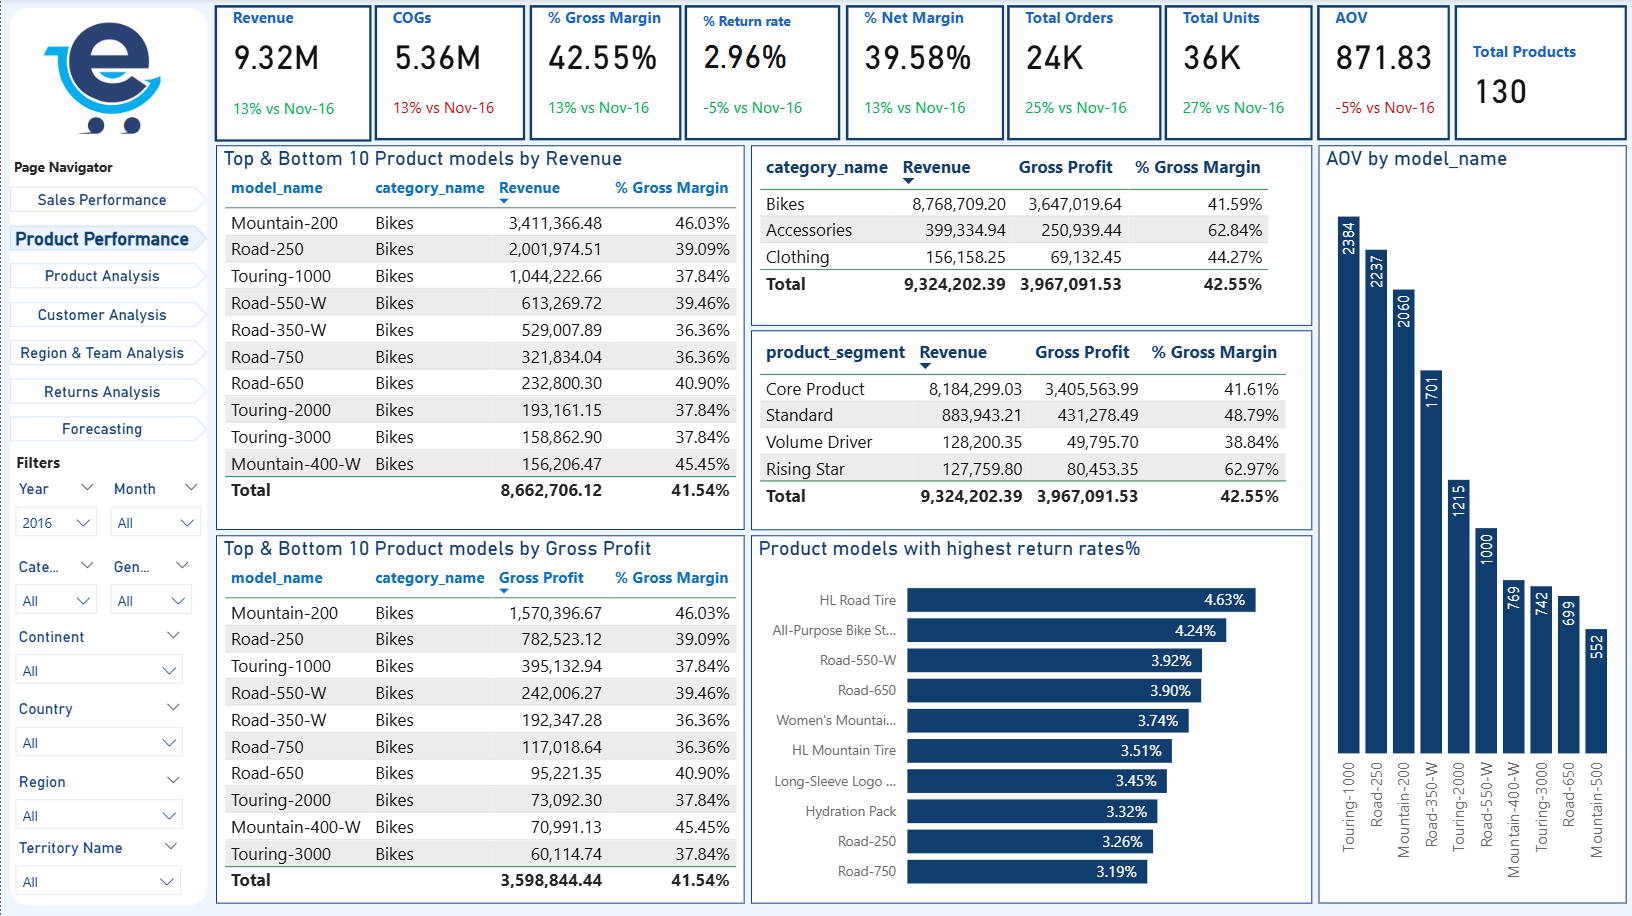

What the dashboard file says about the page in this screenshot:
{"tool":"powerbi","page":{"name":"Product Performance","canvas":[1280,720],"ordinal":1},"visuals":[{"type":"cardVisual","fields":{"Data":["All_measures.Revenue"]},"box":[162.3,0,133.9,117],"z":0},{"type":"cardVisual","fields":{"Data":["All_measures.% Gross Margin"]},"box":[409.6,0,129.8,116.7],"z":1000},{"type":"cardVisual","fields":{"Data":["All_measures.% Return rate"]},"box":[531.3,0,132.8,116.7],"z":2000},{"type":"cardVisual","fields":{"Data":["All_measures.% Net Margin"]},"box":[657.1,0,134.8,116.7],"z":3000},{"type":"cardVisual","fields":{"Data":["All_measures.Total Orders"]},"box":[783.9,0,131.8,116.7],"z":4000},{"type":"cardVisual","fields":{"Data":["All_measures.COGs"]},"box":[287.8,0,128.8,116.7],"z":5000},{"type":"cardVisual","fields":{"Data":["All_measures.AOV"]},"box":[1027.1,0,114.3,116.8],"z":6000},{"type":"cardVisual","fields":{"Data":["All_measures.Total Units"]},"box":[907.7,0,126.8,116.7],"z":7000},{"type":"cardVisual","fields":{"Data":["All_measures.Total Products"]},"box":[1134.2,0,145.8,116.9],"z":8000},{"type":"tableEx","fields":{"Values":["gold dim_products.category_name","All_measures.Revenue","All_measures.Gross Profit","All_measures.% Gross Margin"]},"box":[587.7,114.7,439.7,141.9],"z":9000},{"type":"tableEx","title":"Top & Bottom 10 Product models by Revenue","fields":{"Values":["gold dim_products.model_name","gold dim_products.category_name","All_measures.Revenue","All_measures.% Gross Margin"]},"box":[168.1,114.7,414.6,301.9],"z":10000},{"type":"tableEx","title":"Top & Bottom 10 Product models by Gross Profit","fields":{"Values":["gold dim_products.model_name","gold dim_products.category_name","All_measures.Gross Profit","All_measures.% Gross Margin"]},"box":[168.1,420.6,414.6,288.8],"z":11000},{"type":"tableEx","fields":{"Values":["gold dim_products.product_segment","All_measures.Revenue","All_measures.Gross Profit","All_measures.% Gross Margin"]},"box":[587.7,259.6,439.7,157],"z":12000},{"type":"barChart","title":"Product models with highest return rates% ","fields":{"Y":["All_measures.% Return rate"],"Category":["gold dim_products.model_name"]},"box":[587.7,420.6,439.7,288.8],"z":13000},{"type":"clusteredColumnChart","title":"AOV by model_name","fields":{"Category":["gold dim_products.model_name"],"Y":["All_measures.AOV"]},"box":[1032.5,114.7,241.5,594.7],"z":14000},{"type":"shape","box":[7.3,6.4,155,703.8],"z":15000},{"type":"image","box":[25.2,6,114.7,110.7],"z":16000},{"type":"textbox","box":[5,116.7,112.7,30.2],"z":17000},{"type":"textbox","box":[7,349.2,56.4,33.2],"z":18000},{"type":"slicer","fields":{"Values":["gold dim_date.calendar.Variation.Date Hierarchy.Year"]},"box":[1,372.3,84.5,60.4],"z":19000},{"type":"slicer","fields":{"Values":["gold dim_products.category_name"]},"box":[1,432.7,84.5,55.3],"z":20000},{"type":"slicer","fields":{"Values":["gold dim_territories.continent"]},"box":[1,488.1,151.9,56.4],"z":21000},{"type":"slicer","fields":{"Values":["gold dim_territories.country"]},"box":[1,544.4,151.9,57.4],"z":22000},{"type":"slicer","fields":{"Values":["gold dim_territories.region"]},"box":[1,601.8,151.9,61.4],"z":23000},{"type":"slicer","fields":{"Values":["gold dim_territories.territory_name"]},"box":[1,653.1,149.9,56.4],"z":24000},{"type":"pageNavigator","box":[7.3,146.8,155,202.3],"z":25000},{"type":"slicer","fields":{"Values":["gold dim_customers.gender"]},"box":[75.5,432.7,84.5,55.3],"z":26000},{"type":"slicer","fields":{"Values":["gold dim_date.calendar.Variation.Date Hierarchy.Month"]},"box":[75.5,372.3,91.6,60.4],"z":27000}]}

Visuals, with their boxes in screenshot pixels (x1, y1, x2, y2), scaled from the page's 1280x720 canvas onto the 1632x916 screenshot:
cardVisual - All_measures.Revenue: rect(207, 0, 378, 149)
cardVisual - All_measures.% Gross Margin: rect(522, 0, 688, 148)
cardVisual - All_measures.% Return rate: rect(677, 0, 847, 148)
cardVisual - All_measures.% Net Margin: rect(838, 0, 1010, 148)
cardVisual - All_measures.Total Orders: rect(999, 0, 1168, 148)
cardVisual - All_measures.COGs: rect(367, 0, 531, 148)
cardVisual - All_measures.AOV: rect(1310, 0, 1455, 149)
cardVisual - All_measures.Total Units: rect(1157, 0, 1319, 148)
cardVisual - All_measures.Total Products: rect(1446, 0, 1631, 149)
tableEx - gold dim_products.category_name x All_measures.Revenue: rect(749, 146, 1310, 326)
"Top & Bottom 10 Product models by Revenue" tableEx: rect(214, 146, 743, 530)
"Top & Bottom 10 Product models by Gross Profit" tableEx: rect(214, 535, 743, 903)
tableEx - gold dim_products.product_segment x All_measures.Revenue: rect(749, 330, 1310, 530)
"Product models with highest return rates% " barChart: rect(749, 535, 1310, 903)
"AOV by model_name" clusteredColumnChart: rect(1316, 146, 1624, 903)
shape: rect(9, 8, 207, 904)
image: rect(32, 8, 178, 148)
textbox: rect(6, 148, 150, 187)
textbox: rect(9, 444, 81, 486)
slicer - gold dim_date.calendar.Variation.Date Hierarchy.Year: rect(1, 474, 109, 550)
slicer - gold dim_products.category_name: rect(1, 550, 109, 621)
slicer - gold dim_territories.continent: rect(1, 621, 195, 693)
slicer - gold dim_territories.country: rect(1, 693, 195, 766)
slicer - gold dim_territories.region: rect(1, 766, 195, 844)
slicer - gold dim_territories.territory_name: rect(1, 831, 192, 903)
pageNavigator: rect(9, 187, 207, 444)
slicer - gold dim_customers.gender: rect(96, 550, 204, 621)
slicer - gold dim_date.calendar.Variation.Date Hierarchy.Month: rect(96, 474, 213, 550)
